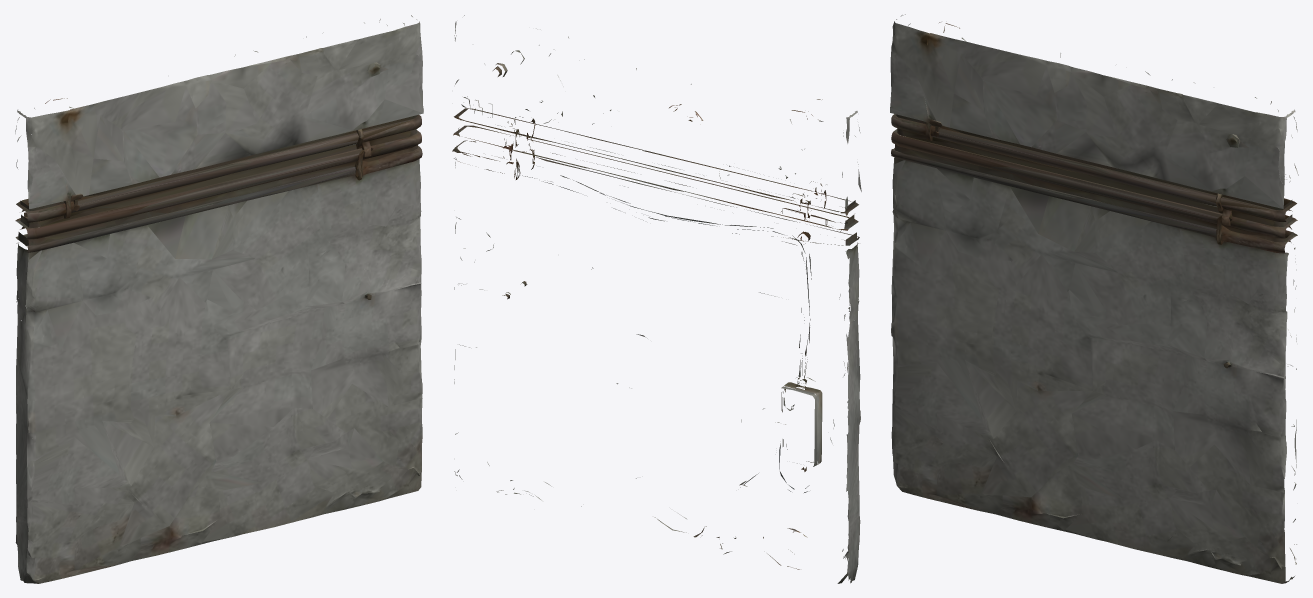
File: room_bunker_wall_5_idle.glb
3 views of the same model, side by side, from view 1: azimuth 30°, elevation 25°; view 2: azimuth 150°, elevation 25°; view 3: azimuth 330°, elevation 25° (orthographic).
Parts seen in each view (by area): view 1: tripo_node_0860f8cf-7f30-4b2f-a94d-37c8700fd058; view 2: tripo_node_0860f8cf-7f30-4b2f-a94d-37c8700fd058; view 3: tripo_node_0860f8cf-7f30-4b2f-a94d-37c8700fd058.
Boxes of the visible parts, bbox=[...] form: tripo_node_0860f8cf-7f30-4b2f-a94d-37c8700fd058: bbox=[15, 15, 423, 583]; tripo_node_0860f8cf-7f30-4b2f-a94d-37c8700fd058: bbox=[452, 15, 861, 583]; tripo_node_0860f8cf-7f30-4b2f-a94d-37c8700fd058: bbox=[890, 14, 1298, 583].
Bounding box in the file's own units: 2.65 × 3 × 0.2996.
1 material, 1 textured.
